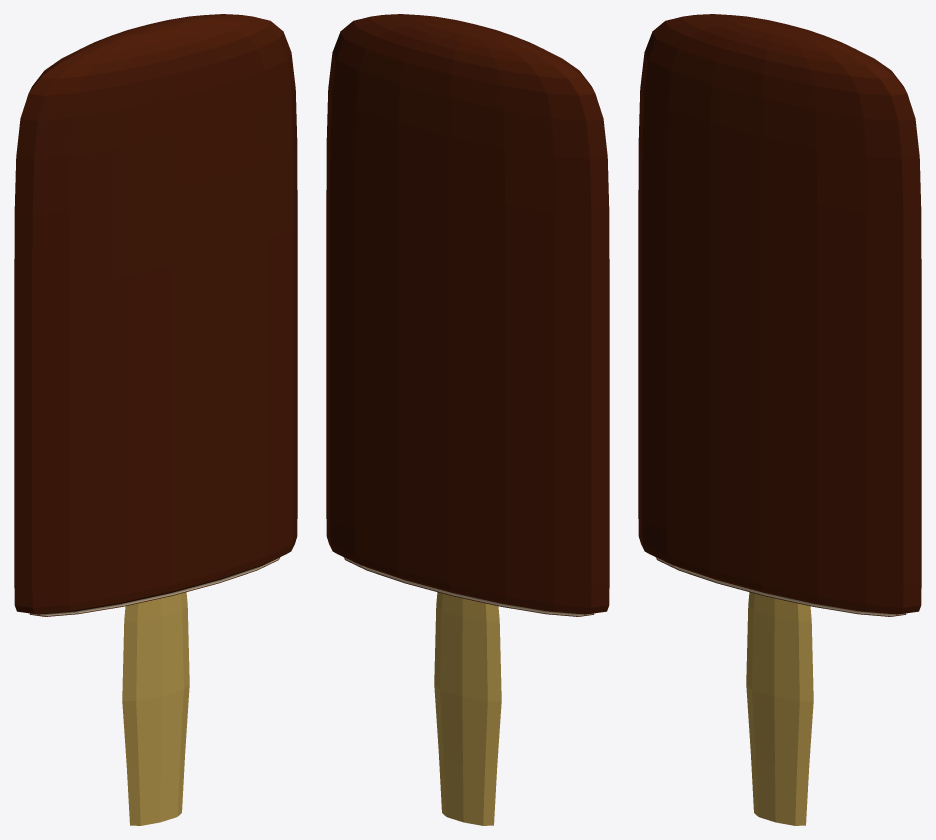
Rendered from Albero3.fbx.
3 views of the same model, side by side, from view 1: azimuth 30°, elevation 25°; view 2: azimuth 150°, elevation 25°; view 3: azimuth 330°, elevation 25° (orthographic).
Visible parts, largest first — view 1: Gelato, Stecco; view 2: Gelato, Stecco; view 3: Gelato, Stecco.
Boxes of the visible parts, bbox=[...] form: Gelato: bbox=[14, 14, 297, 616]; Stecco: bbox=[122, 592, 189, 825]; Gelato: bbox=[326, 14, 609, 616]; Stecco: bbox=[434, 592, 501, 825]; Gelato: bbox=[638, 14, 921, 616]; Stecco: bbox=[746, 592, 813, 825].
Size of the model in its own units: 567 by 1518 by 128.
